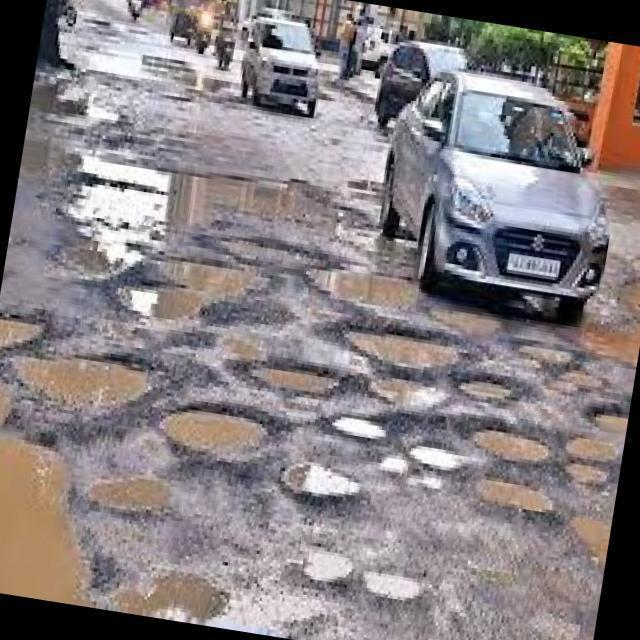pothole: (0, 435, 79, 602), (66, 156, 171, 267), (166, 174, 345, 228), (129, 261, 258, 319), (84, 48, 239, 94), (14, 356, 148, 408), (114, 571, 228, 621), (164, 411, 266, 462), (311, 270, 419, 309), (475, 479, 564, 523), (350, 333, 458, 369), (222, 238, 334, 268), (89, 476, 169, 513), (370, 379, 448, 412), (32, 81, 89, 126), (281, 464, 360, 496), (474, 430, 549, 462), (431, 309, 501, 338), (570, 516, 610, 564), (584, 330, 640, 363), (264, 371, 338, 394), (364, 571, 422, 599), (410, 446, 468, 471), (304, 551, 352, 581), (1, 319, 44, 349), (566, 438, 619, 462), (332, 416, 386, 438), (519, 345, 572, 367), (565, 462, 609, 486), (459, 381, 511, 401), (560, 371, 601, 389), (1, 382, 14, 424), (381, 456, 409, 474), (595, 417, 626, 433)
